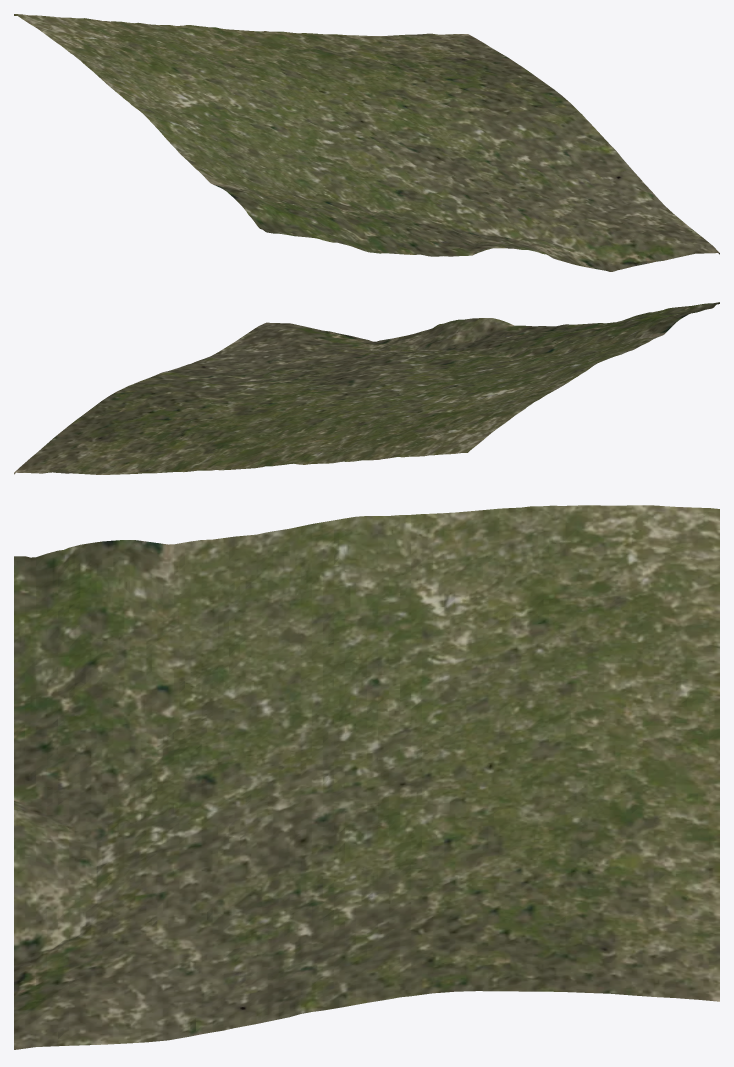
The picture shows the model from 3 angles, top to bottom: view 1: azimuth 30°, elevation 25°; view 2: azimuth 150°, elevation 25°; view 3: azimuth 270°, elevation 25°; orthographic projection. The views are drawn at different scales.
Size of the model in its own units: 250 by 89.37 by 241.
Materials: 1 (1 with a texture image).
